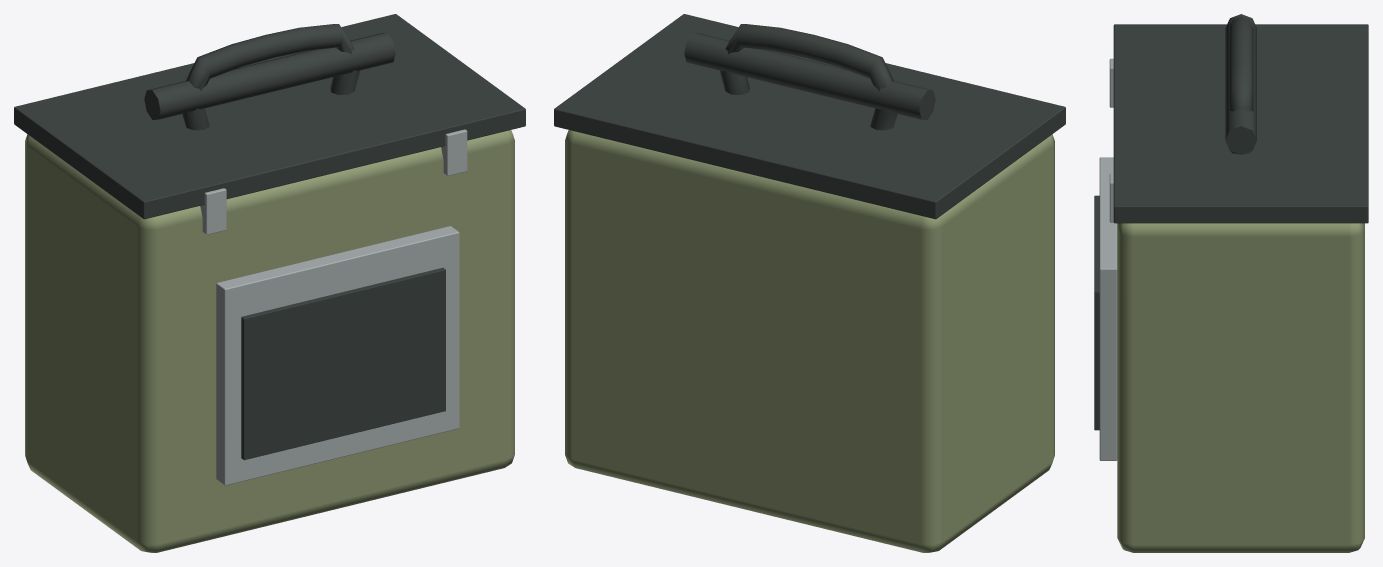
The model's file is off-grid-power-and-controls-suitcase-generator-0066a603__2952.glb.
3 views of the same model, side by side, from view 1: azimuth 30°, elevation 25°; view 2: azimuth 150°, elevation 25°; view 3: azimuth 270°, elevation 25° (orthographic). The views are drawn at different scales.
Parts seen in each view (by area): view 1: suitcase-generator, lid/dark; view 2: suitcase-generator, lid/dark; view 3: suitcase-generator, lid/dark.
Boxes of the visible parts, x1=… form: suitcase-generator: x1=25, y1=24, x2=514, y2=552; lid/dark: x1=14, y1=14, x2=525, y2=219; suitcase-generator: x1=565, y1=24, x2=1054, y2=552; lid/dark: x1=554, y1=14, x2=1065, y2=219; suitcase-generator: x1=1094, y1=14, x2=1364, y2=552; lid/dark: x1=1113, y1=24, x2=1368, y2=223.
Bounding box in the file's own units: 0.488 × 0.5307 × 0.31.
